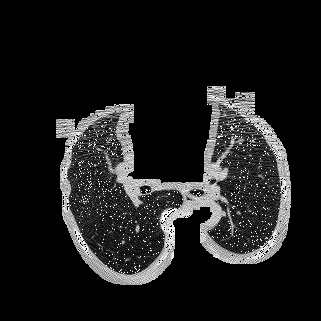PN: (239, 139, 243, 143)
